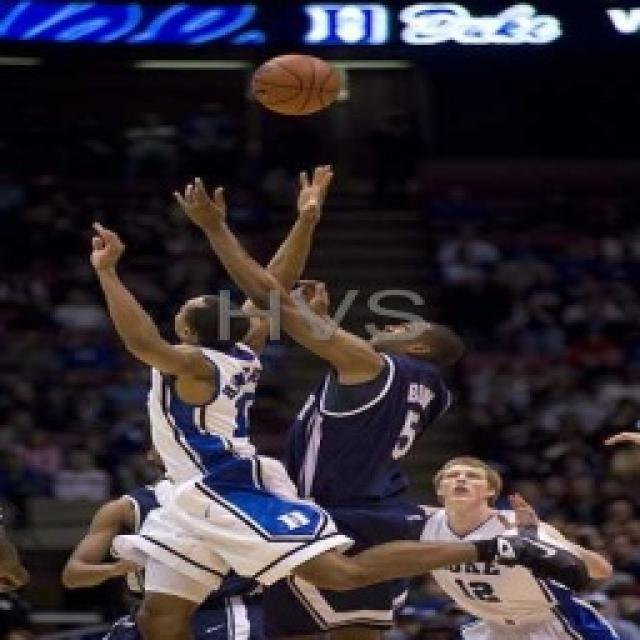rim: (248, 46, 346, 128)
